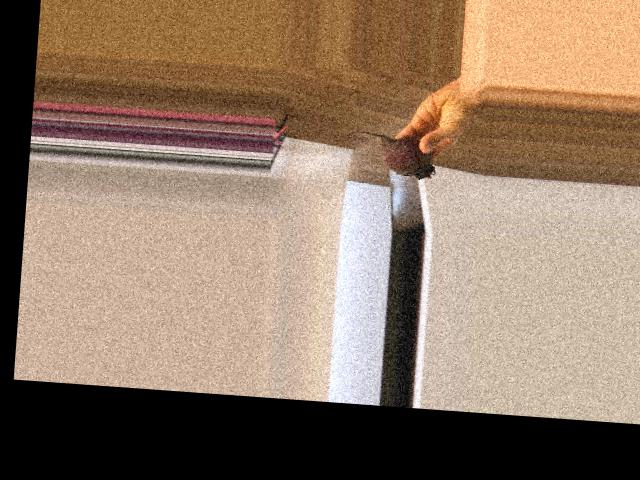beet: (341, 130, 437, 179)
